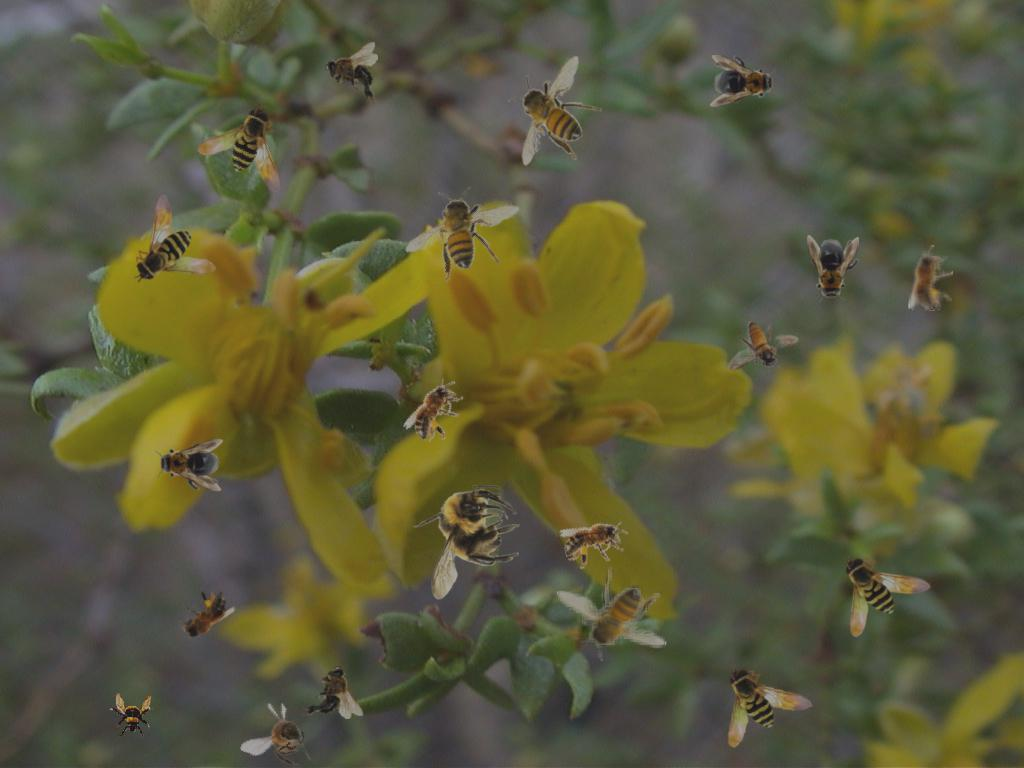Bee: (393, 159, 538, 305), (191, 100, 307, 218), (413, 485, 520, 600), (556, 567, 667, 661), (508, 55, 602, 166), (719, 664, 817, 756), (132, 193, 216, 283), (843, 555, 931, 637), (239, 693, 328, 768), (162, 577, 240, 656), (401, 369, 473, 450), (557, 509, 635, 574), (728, 321, 799, 371), (807, 235, 859, 303), (710, 55, 778, 107), (155, 439, 223, 491), (325, 42, 378, 104), (301, 666, 363, 719), (908, 245, 953, 311), (109, 693, 153, 737)
